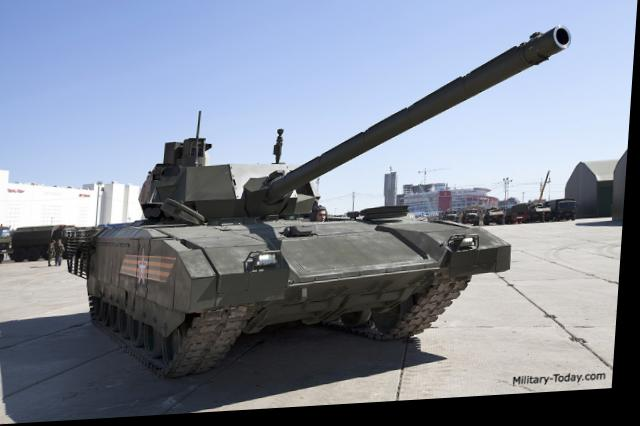tank: (75, 113, 521, 388)
